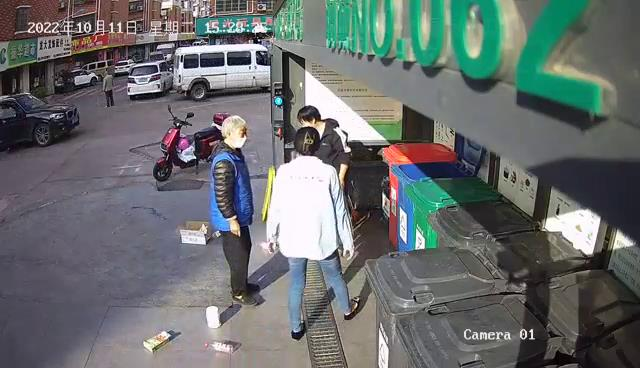lvzhipin: (204, 303, 224, 330)
person: (266, 101, 366, 344)
suliaozhipin: (202, 338, 236, 356)
worker: (203, 111, 263, 309)
zhizhipin: (177, 217, 214, 246), (142, 329, 174, 354)
